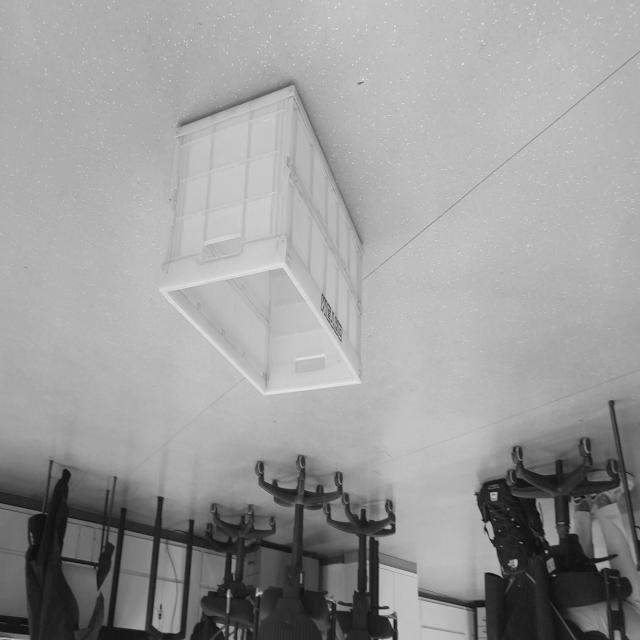box: (154, 66, 368, 407)
